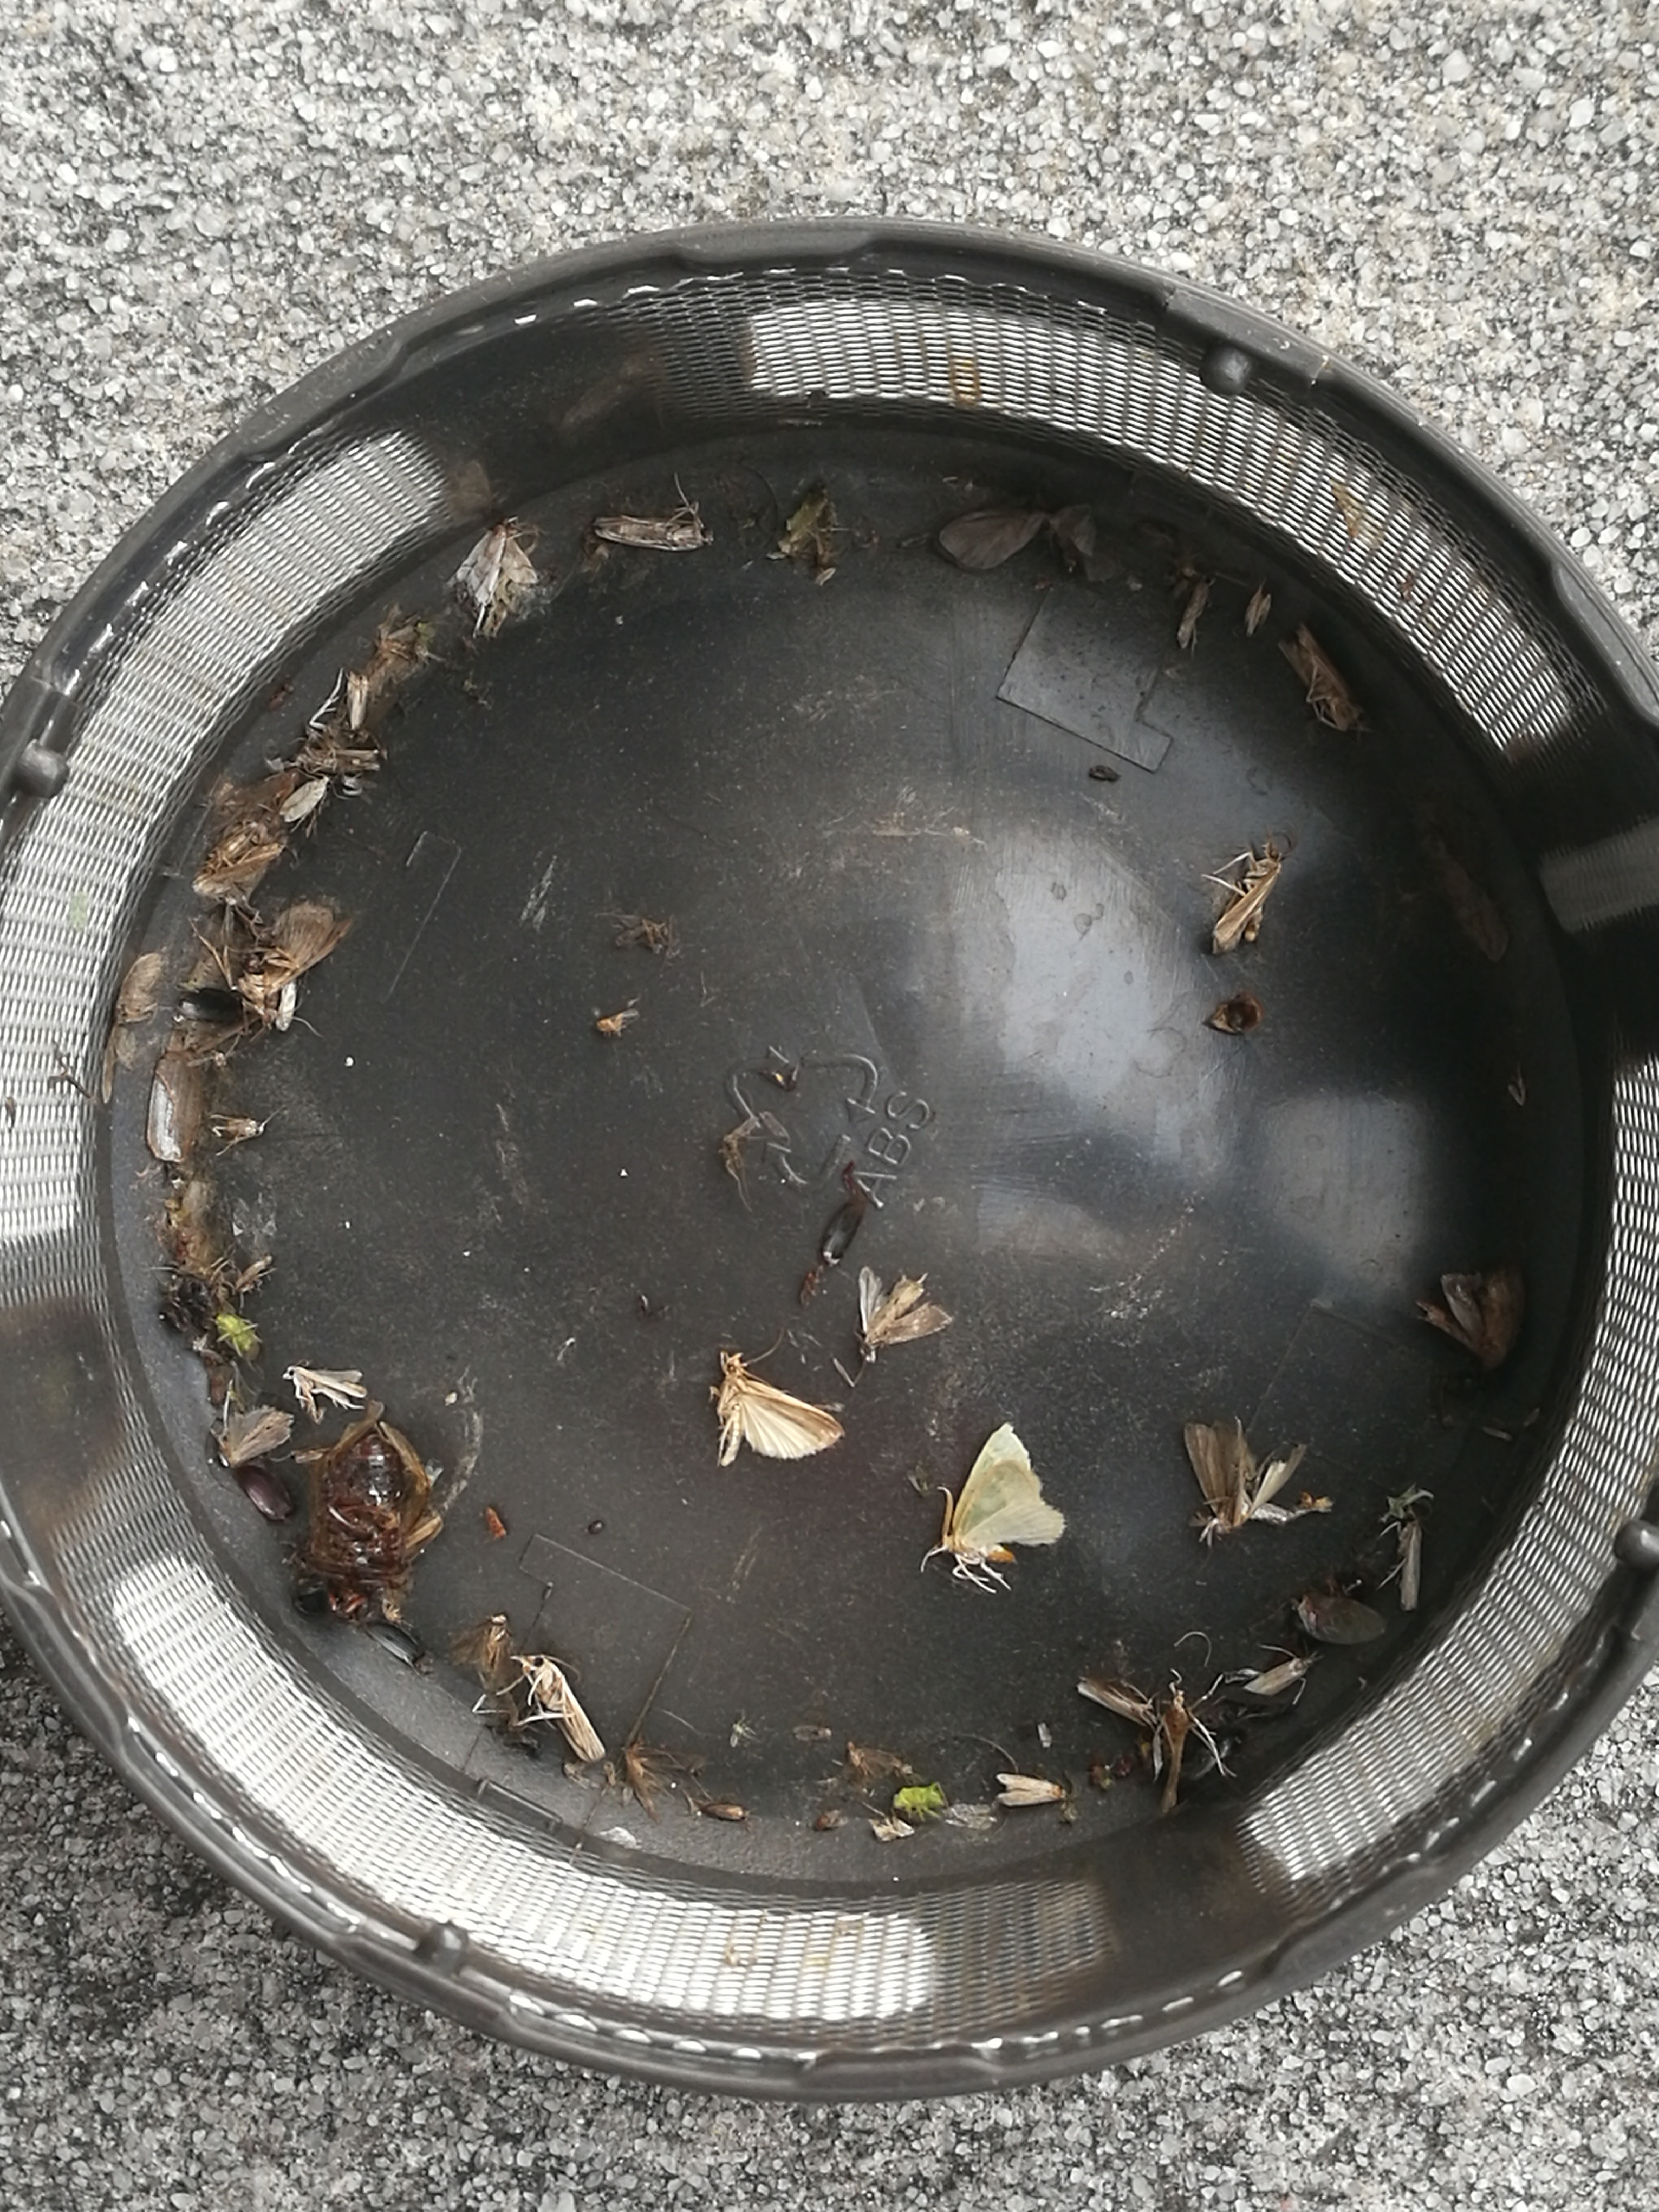beetle: (305, 1426, 408, 1618), (166, 1278, 214, 1327)
mosquito: (514, 1653, 606, 1763), (1279, 624, 1366, 733), (1213, 841, 1284, 953), (596, 516, 713, 550), (1079, 1674, 1155, 1724), (284, 1366, 364, 1407), (1246, 1656, 1317, 1695), (288, 747, 380, 773), (1178, 577, 1211, 644), (279, 775, 329, 819), (1399, 1508, 1420, 1609), (228, 1258, 274, 1296), (349, 672, 366, 733), (277, 981, 298, 1031)
moth: (936, 1423, 1066, 1566), (714, 1352, 845, 1467), (1183, 1421, 1305, 1533), (941, 510, 1119, 582), (1425, 1271, 1523, 1367), (857, 1266, 953, 1362), (103, 953, 159, 1103), (265, 902, 352, 996), (448, 524, 540, 603), (185, 906, 261, 989), (218, 1407, 293, 1467), (444, 1616, 509, 1684), (206, 826, 286, 873), (999, 1771, 1066, 1806)
